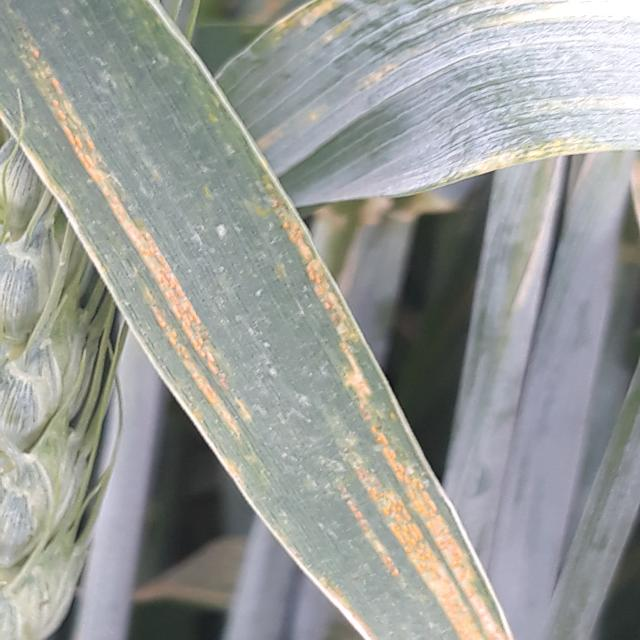yellow_rust: (8, 48, 509, 640), (258, 3, 640, 211)
